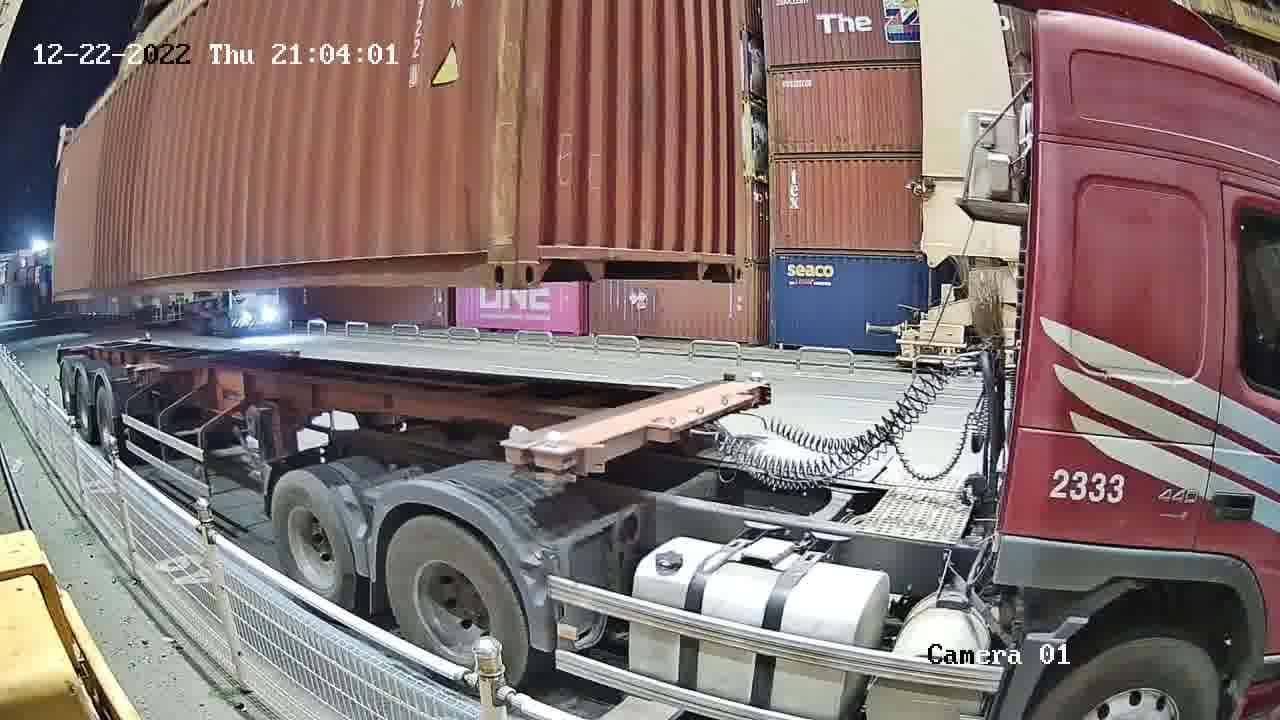Chassis: (503, 373, 774, 475)
Cone: (536, 468, 573, 499)
Container: (517, 219, 745, 289)
Hole_L: (516, 216, 557, 288)
Hole_R: (468, 214, 518, 289), (713, 234, 745, 282)
Tire: (385, 516, 530, 688), (269, 474, 358, 614)
